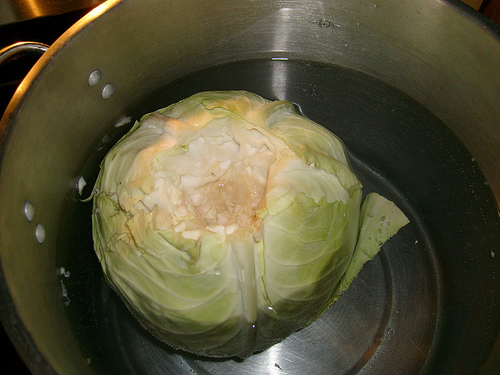cabbage: (94, 92, 409, 356)
